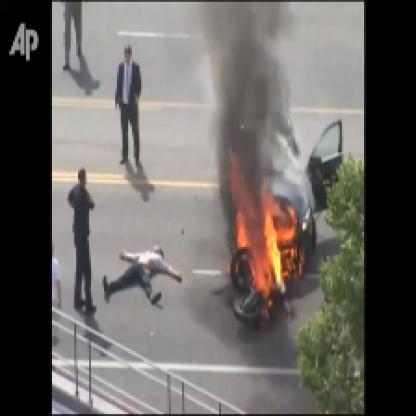Fire: (225, 176, 299, 303)
Smoke: (202, 2, 286, 226)
